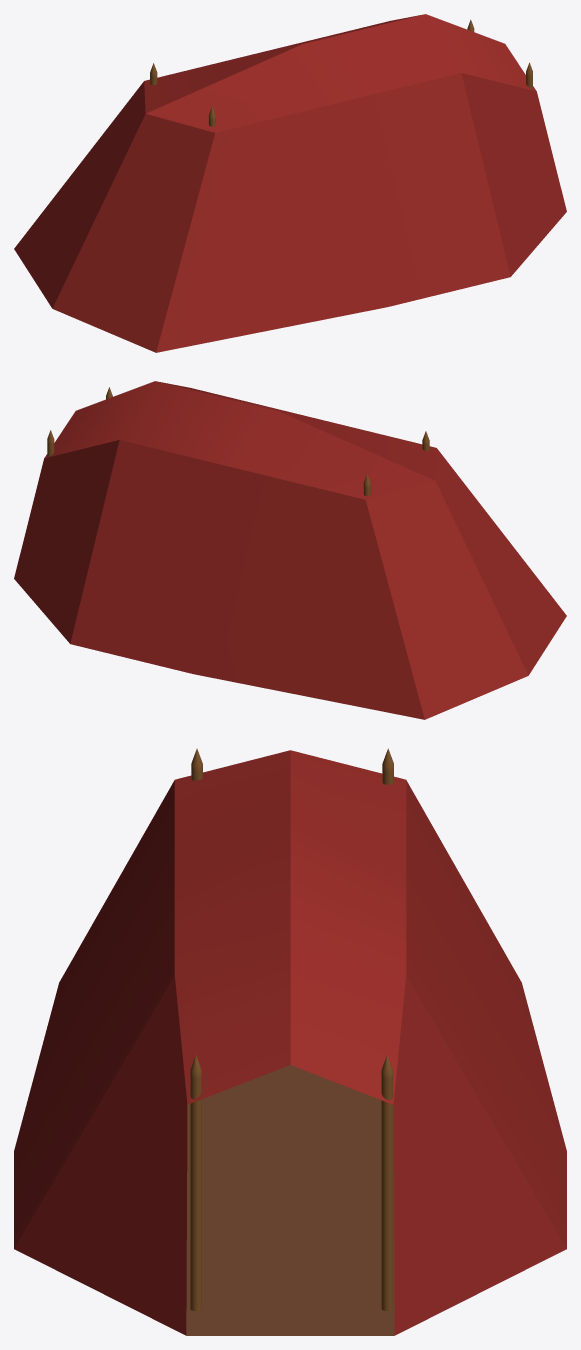
Rendered from Zelt_1.fbx.
3 renders of one model, top to bottom at view 1: azimuth 30°, elevation 25°; view 2: azimuth 150°, elevation 25°; view 3: azimuth 270°, elevation 25°, orthographic. The views are drawn at different scales.
Visible parts, largest first — view 1: Zelt2; view 2: Zelt2; view 3: Zelt2.
Boxes of the visible parts, bbox=[...] form: Zelt2: bbox=[14, 14, 566, 352]; Zelt2: bbox=[14, 381, 566, 719]; Zelt2: bbox=[14, 748, 566, 1335].
Bounding box in the file's own units: 641 × 270 × 391.
